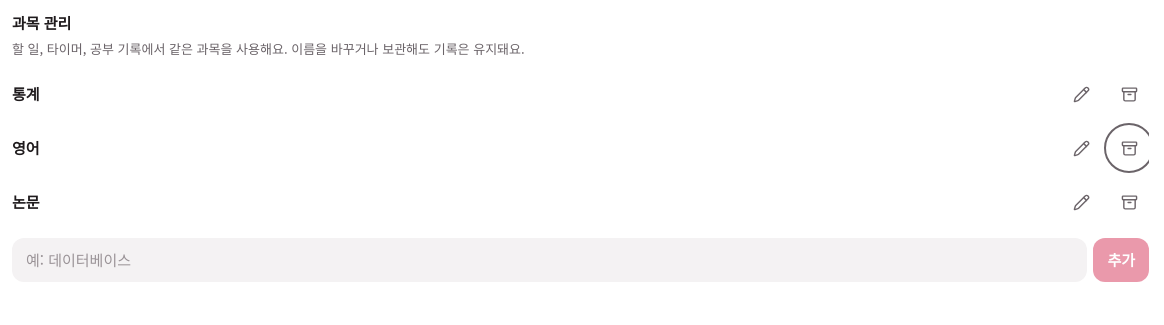
Test: SubjectManager 과목 보관 › shows an archive failure once on a failed result and keeps the row and focus
Click the button named "영어 보관".
click(1129, 148)  # box [1109,128,1149,168]
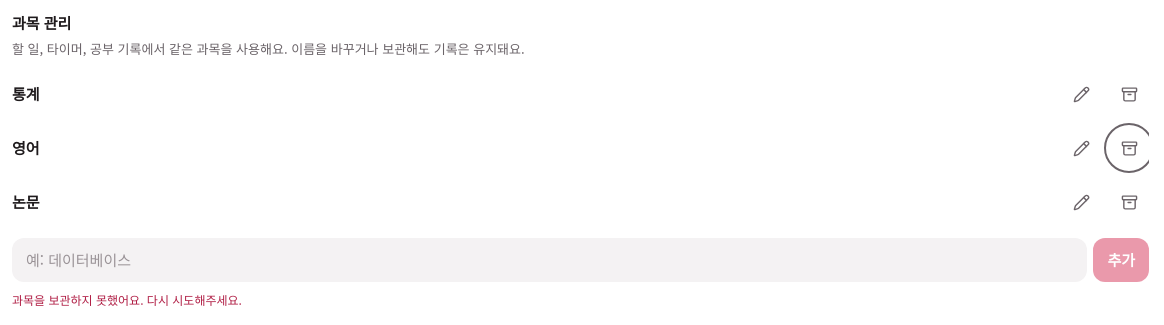
expect the message reads "과목을 보관하지 못했어요. 다시 시도해주세요.": met, box [12,291,242,308]
expect the number of messages is 1: met, box [12,291,242,308]
